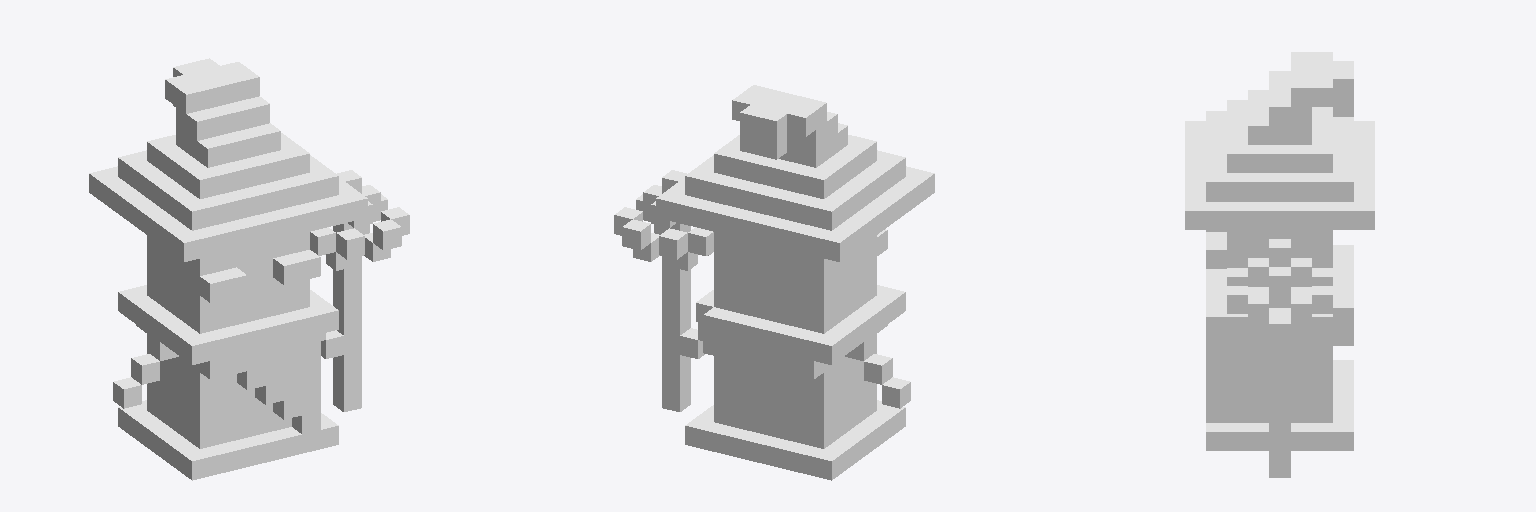
The model's file is RedWizardCharacter.obj.
The picture shows the model from 3 angles: view 1: azimuth 30°, elevation 25°; view 2: azimuth 150°, elevation 25°; view 3: azimuth 270°, elevation 25°; orthographic projection.
Size of the model in its own units: 15 by 18 by 9.